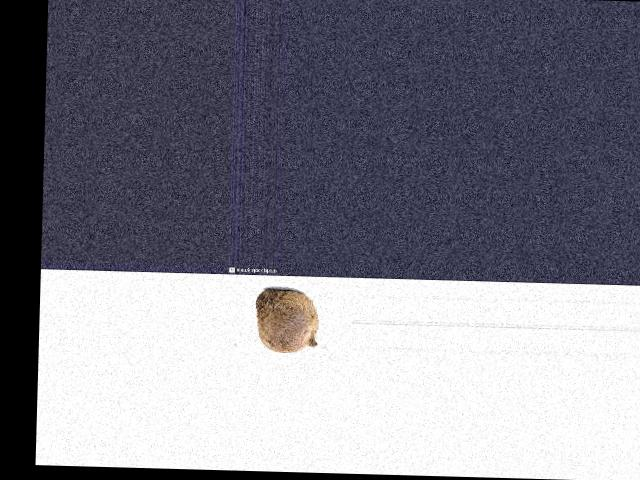beet: (255, 287, 320, 353)
